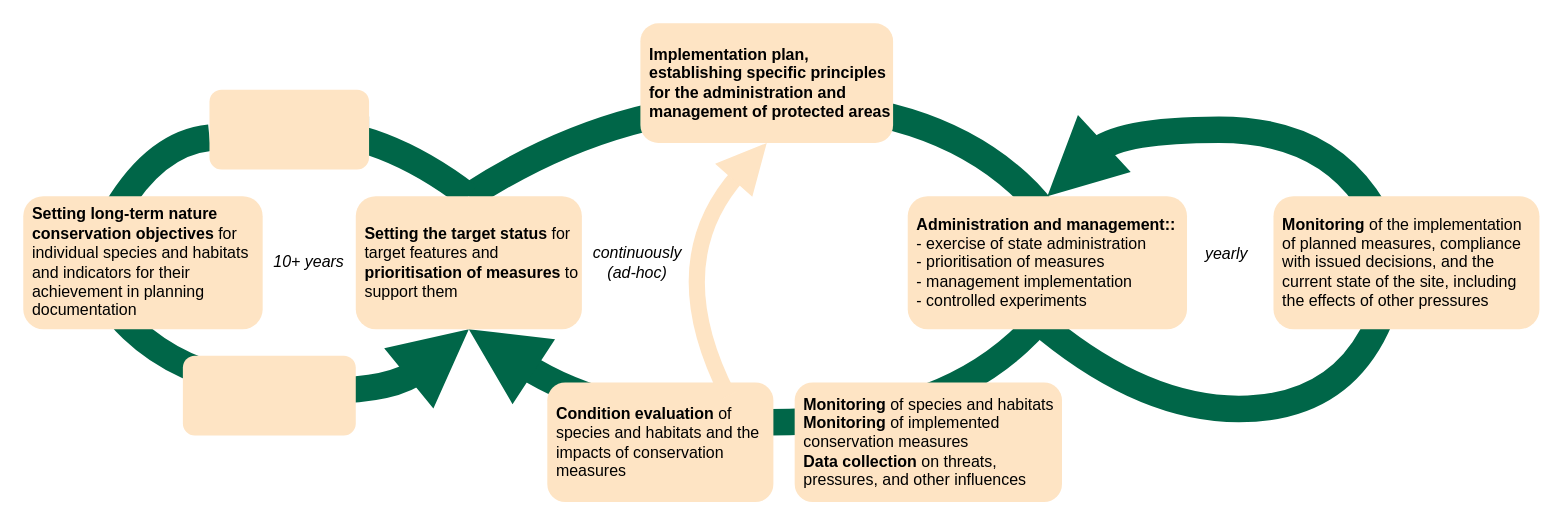
Image size: 1561x524. Some labels were removed from this diagram. Here are the shapes that lost their labels. From the top down, the box of each, then its label:
(209, 89, 368, 169): Prioritisation of nature conservation objectives
(182, 355, 355, 435): Audit of conservation objectives fulfilment
